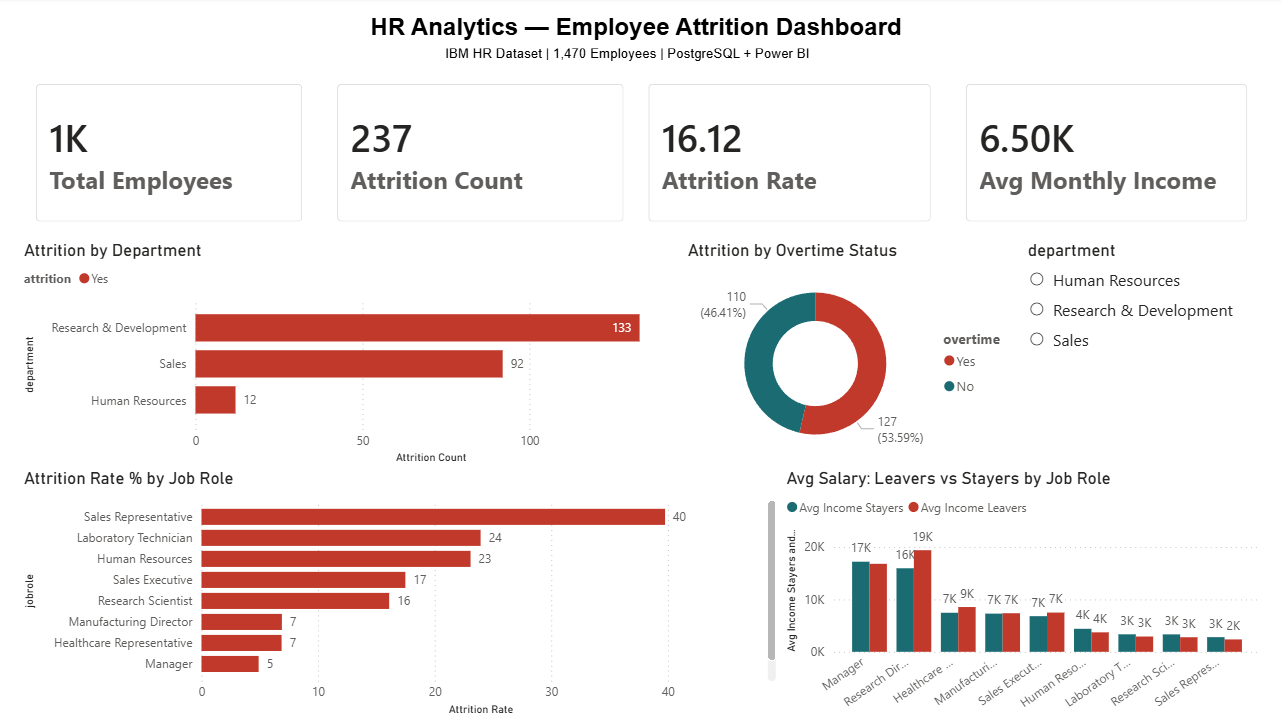

Layout of this report page (visuals, bound fields, positions):
{"tool":"powerbi","page":{"name":"Page 1","canvas":[1280,720],"ordinal":0},"visuals":[{"type":"textbox","box":[439.1,41.1,400.6,39.8],"z":0},{"type":"cardVisual","fields":{"Data":["public hr_employee.Total Employees"]},"box":[19.9,69.7,299.8,171.7],"z":1000},{"type":"cardVisual","fields":{"Data":["public hr_employee.Attrition Rate"]},"box":[629.4,69.7,316,171.7],"z":2000},{"type":"cardVisual","fields":{"Data":["public hr_employee.Avg Monthly Income"]},"box":[945.4,69.7,314.7,171.7],"z":3000},{"type":"clusteredBarChart","title":"Attrition by Department","fields":{"Category":["public hr_employee.department"],"Y":["public hr_employee.Attrition Count"],"Series":["public hr_employee.attrition"]},"box":[20,240.9,660,228.1],"z":4000},{"type":"cardVisual","fields":{"Data":["public hr_employee.Attrition Count"]},"box":[319.7,69.7,319.7,171.7],"z":5000},{"type":"clusteredBarChart","title":"Attrition Rate % by Job Role","fields":{"Category":["public hr_employee.jobrole"],"Y":["public hr_employee.Attrition Rate"]},"box":[20,469,758.3,250.9],"z":6000},{"type":"donutChart","title":"Attrition by Overtime Status","fields":{"Category":["public hr_employee.overtime"],"Y":["public hr_employee.Attrition Count"]},"box":[679.9,240.9,339.2,228.1],"z":7000},{"type":"listSlicer","fields":{"Values":["public hr_employee.department"]},"box":[1019.2,240.9,240.9,228.1],"z":8000},{"type":"clusteredColumnChart","title":"Avg Salary: Leavers vs Stayers by Job Role","fields":{"Category":["public hr_employee.jobrole"],"Y":["public hr_employee.Avg Income Stayers","public hr_employee.Avg Income Leavers"]},"box":[778.3,469,481.8,250.9],"z":9000},{"type":"textbox","box":[364.9,11.4,548.8,39.9],"z":10000}]}

Visuals, with their boxes in screenshot pixels (x1, y1, x2, y2), scaled from the page's 1280x720 canvas onto the 1281x720 screenshot:
textbox: 439,41,840,81
cardVisual - public hr_employee.Total Employees: 20,70,320,241
cardVisual - public hr_employee.Attrition Rate: 630,70,946,241
cardVisual - public hr_employee.Avg Monthly Income: 946,70,1261,241
"Attrition by Department" clusteredBarChart: 20,241,681,469
cardVisual - public hr_employee.Attrition Count: 320,70,640,241
"Attrition Rate % by Job Role" clusteredBarChart: 20,469,779,719
"Attrition by Overtime Status" donutChart: 680,241,1020,469
listSlicer - public hr_employee.department: 1020,241,1261,469
"Avg Salary: Leavers vs Stayers by Job Role" clusteredColumnChart: 779,469,1261,719
textbox: 365,11,914,51
